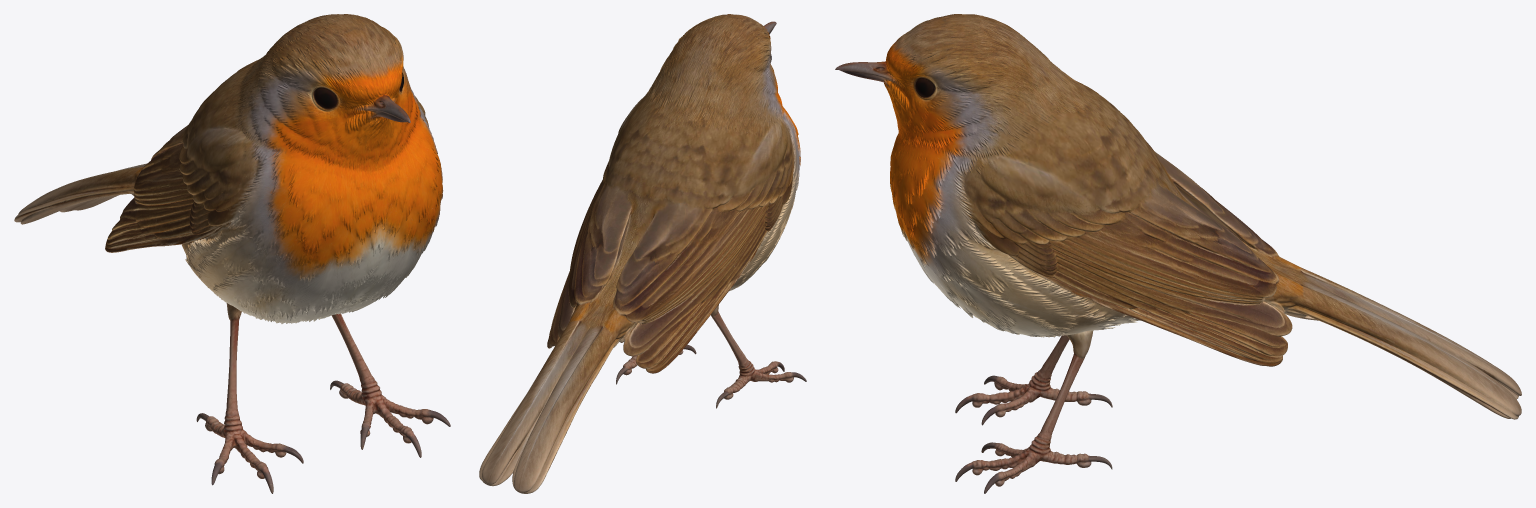
Rendered from bird.glb.
3 views of the same model, side by side, from view 1: azimuth 30°, elevation 25°; view 2: azimuth 150°, elevation 25°; view 3: azimuth 270°, elevation 25° (orthographic). The views are drawn at different scales.
Visible parts, largest first — view 1: bird; view 2: bird; view 3: bird.
Boxes of the visible parts, x1,y1,x2,y2 form: bird: (14,14,450,493); bird: (479,14,806,493); bird: (835,14,1521,493).
Size of the model in its own units: 0.0532 by 0.0962 by 0.14.
Materials: 1 (1 with a texture image).
